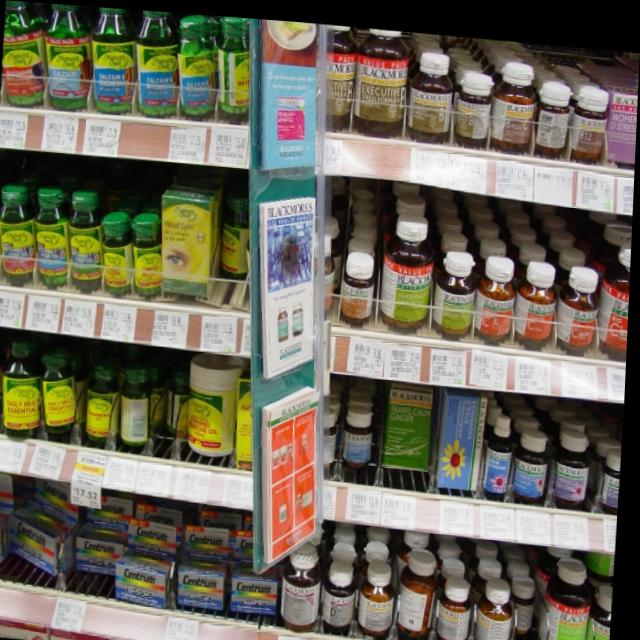q4: (0, 0, 52, 112), (0, 183, 40, 289)
